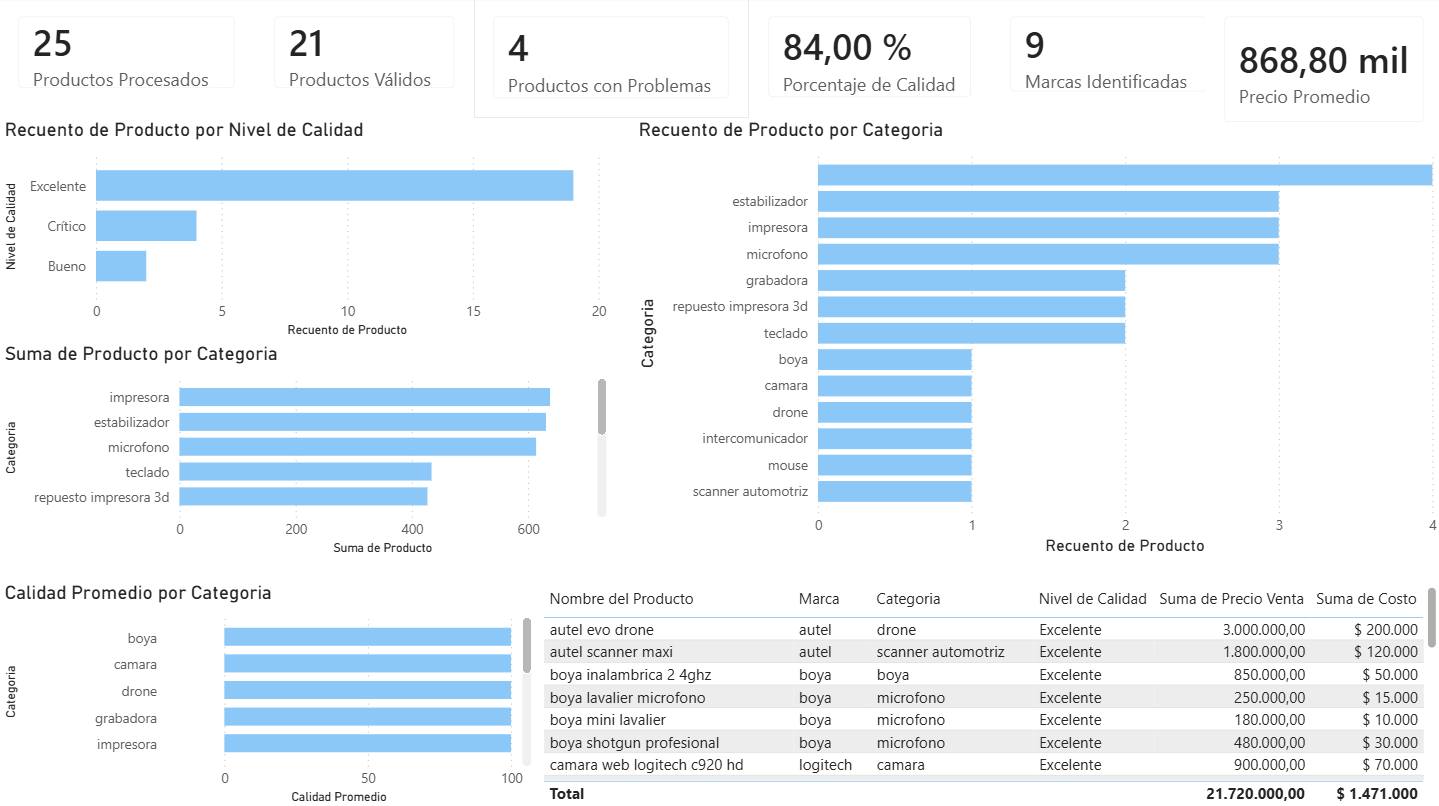

The dashboard page shown, as its layout file describes it:
{"tool":"powerbi","page":{"name":"Página 1","canvas":[1280,720],"ordinal":0},"visuals":[{"type":"cardVisual","fields":{"Data":["catalogo_2026-07-17_17-37-30.Productos con Problemas"]},"box":[421.2,0,243.8,107.3],"z":0},{"type":"cardVisual","fields":{"Data":["catalogo_2026-07-17_17-37-30.Productos Válidos"]},"box":[227,0,194.2,98.4],"z":1000},{"type":"cardVisual","fields":{"Data":["catalogo_2026-07-17_17-37-30.Porcentaje de Calidad"]},"box":[665.3,0,215,107],"z":2000},{"type":"cardVisual","fields":{"Data":["catalogo_2026-07-17_17-37-30.Productos Procesados"]},"box":[0,0,227,98.4],"z":3000},{"type":"clusteredBarChart","fields":{"Y":["CountNonNull(catalogo_2026-07-17_17-37-30.id_producto)"],"Category":["catalogo_2026-07-17_17-37-30.nivel_calidad"]},"box":[0,107.3,543.5,198.6],"z":4000},{"type":"clusteredBarChart","fields":{"Category":["catalogo_2026-07-17_17-37-30.categoria"],"Y":["CountNonNull(catalogo_2026-07-17_17-37-30.id_producto)"]},"box":[562.2,107,717.8,392],"z":5000},{"type":"tableEx","fields":{"Values":["catalogo_2026-07-17_17-37-30.nombre_producto_limpio","catalogo_2026-07-17_17-37-30.marca","catalogo_2026-07-17_17-37-30.categoria","catalogo_2026-07-17_17-37-30.nivel_calidad","Sum(catalogo_2026-07-17_17-37-30.precio_venta)","Sum(catalogo_2026-07-17_17-37-30.costo)"]},"box":[477,517.8,803.3,202.2],"z":6000},{"type":"clusteredBarChart","fields":{"Category":["catalogo_2026-07-17_17-37-30.categoria"],"Y":["Sum(catalogo_2026-07-17_17-37-30.id_producto)"]},"box":[0,305.9,543.5,193.3],"z":7000},{"type":"cardVisual","fields":{"Data":["catalogo_2026-07-17_17-37-30.Marcas Identificadas"]},"box":[879.6,0,208.4,101.1],"z":8000},{"type":"cardVisual","fields":{"Data":["catalogo_2026-07-17_17-37-30.Precio Promedio"]},"box":[1069.4,0,211,128.6],"z":9000},{"type":"clusteredBarChart","fields":{"Category":["catalogo_2026-07-17_17-37-30.categoria"],"Y":["catalogo_2026-07-17_17-37-30.Calidad Promedio"]},"box":[0,517.8,477,202.2],"z":9001}]}

Visuals, with their boxes in screenshot pixels (x1, y1, x2, y2), scaled from the page's 1280x720 canvas onto the 1439x806 screenshot:
cardVisual - catalogo_2026-07-17_17-37-30.Productos con Problemas: [474, 0, 748, 120]
cardVisual - catalogo_2026-07-17_17-37-30.Productos Válidos: [255, 0, 474, 110]
cardVisual - catalogo_2026-07-17_17-37-30.Porcentaje de Calidad: [748, 0, 990, 120]
cardVisual - catalogo_2026-07-17_17-37-30.Productos Procesados: [0, 0, 255, 110]
clusteredBarChart - CountNonNull(catalogo_2026-07-17_17-37-30.id_producto) x catalogo_2026-07-17_17-37-30.nivel_calidad: [0, 120, 611, 342]
clusteredBarChart - catalogo_2026-07-17_17-37-30.categoria x CountNonNull(catalogo_2026-07-17_17-37-30.id_producto): [632, 120, 1438, 559]
tableEx - catalogo_2026-07-17_17-37-30.nombre_producto_limpio x catalogo_2026-07-17_17-37-30.marca: [536, 580, 1438, 805]
clusteredBarChart - catalogo_2026-07-17_17-37-30.categoria x Sum(catalogo_2026-07-17_17-37-30.id_producto): [0, 342, 611, 559]
cardVisual - catalogo_2026-07-17_17-37-30.Marcas Identificadas: [989, 0, 1223, 113]
cardVisual - catalogo_2026-07-17_17-37-30.Precio Promedio: [1202, 0, 1438, 144]
clusteredBarChart - catalogo_2026-07-17_17-37-30.categoria x catalogo_2026-07-17_17-37-30.Calidad Promedio: [0, 580, 536, 805]
